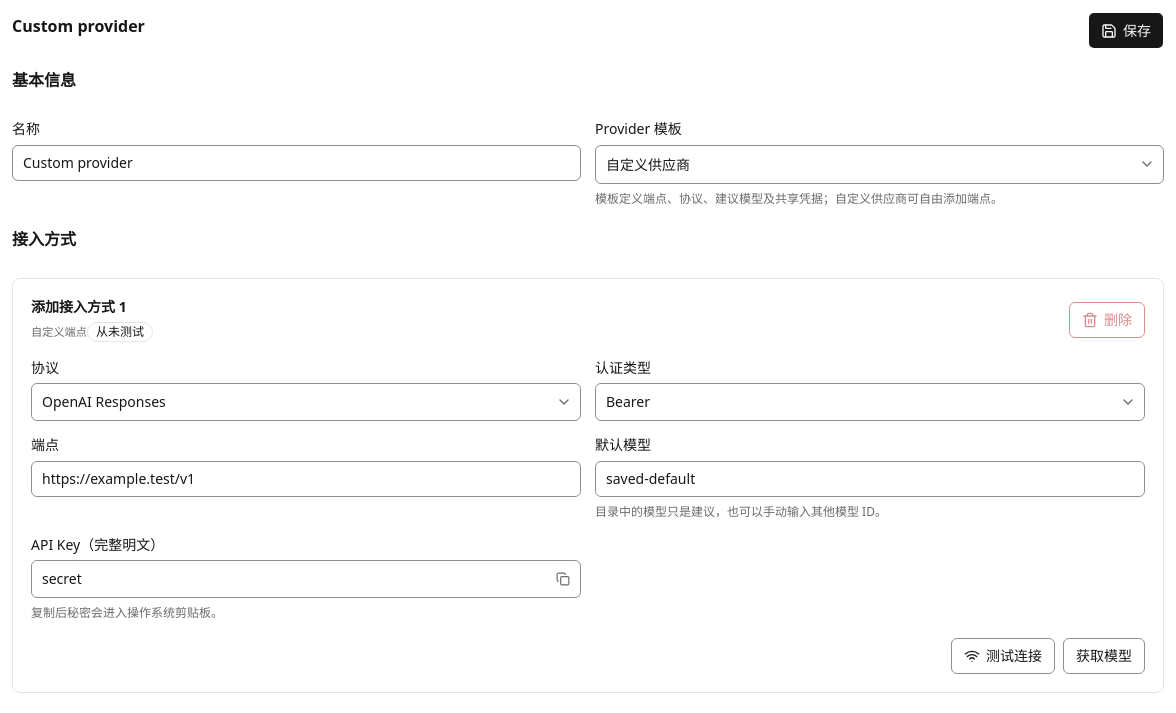
ApiProviderEditor › reports a successful connection test in a global toast
The width and height of the screenshot is (1176, 713).
Click the button "测试连接" at {"x": 1003, "y": 656}, box [951,638,1055,674]
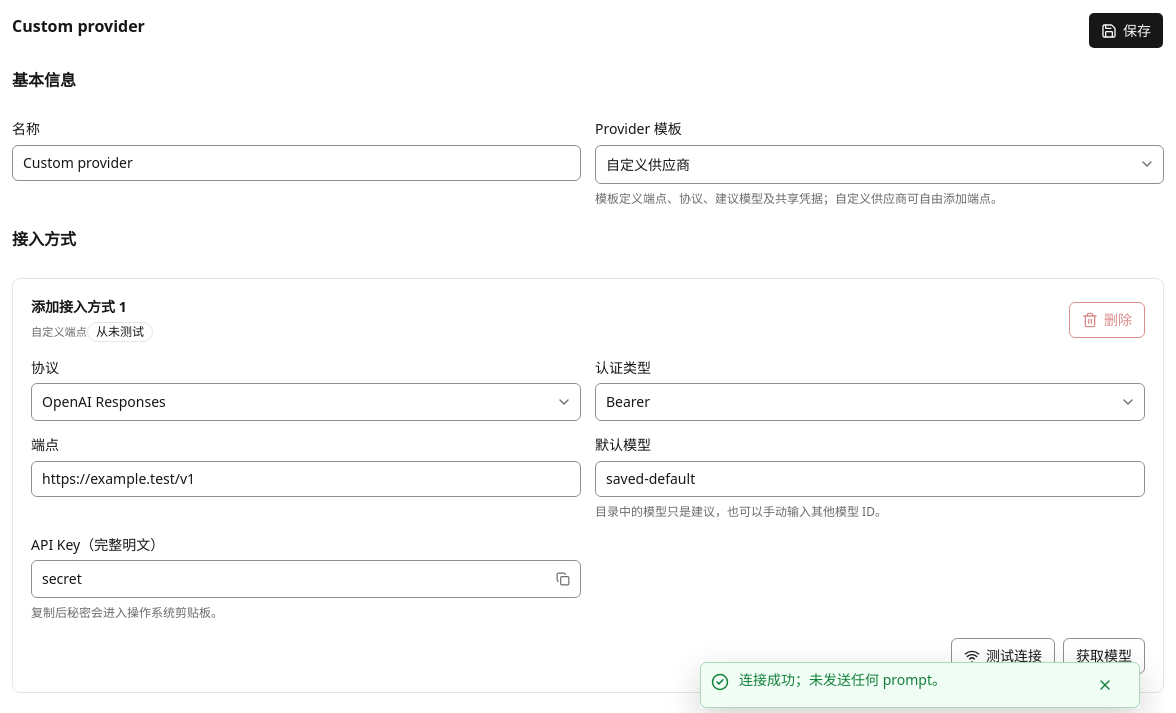
Expected: the text "连接成功；未发送任何 prompt。" is shown, [739,670,946,689]
